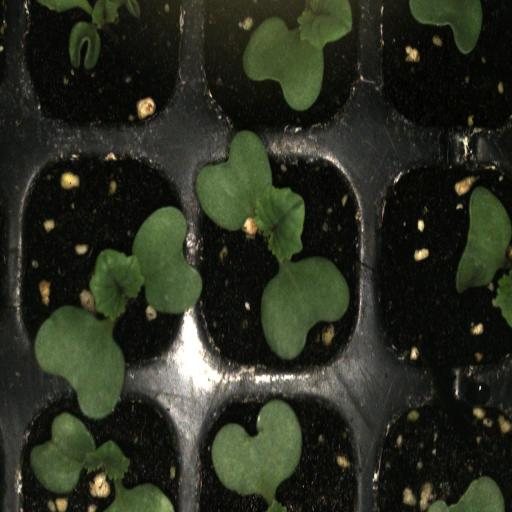Folha: (211, 399, 302, 512), (456, 187, 512, 326), (38, 0, 140, 68), (427, 476, 505, 512)
Germinacao: (188, 133, 370, 381), (12, 131, 187, 376), (9, 380, 190, 512), (194, 0, 371, 131)
